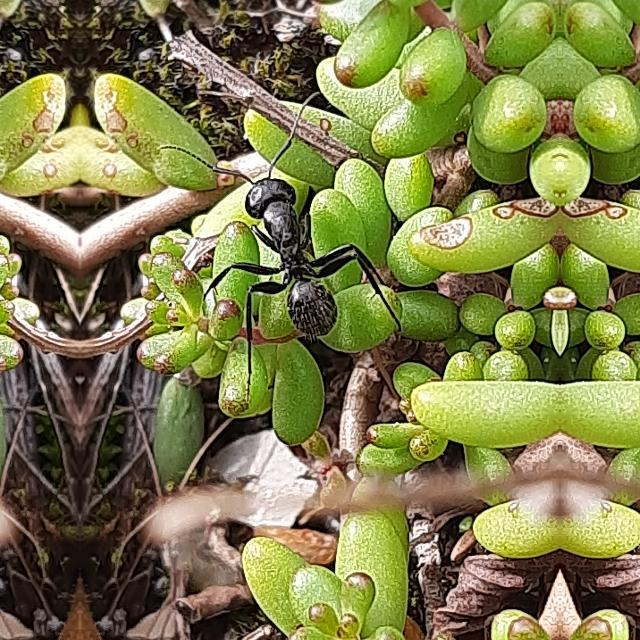Camponotus: (210, 114, 376, 356)
